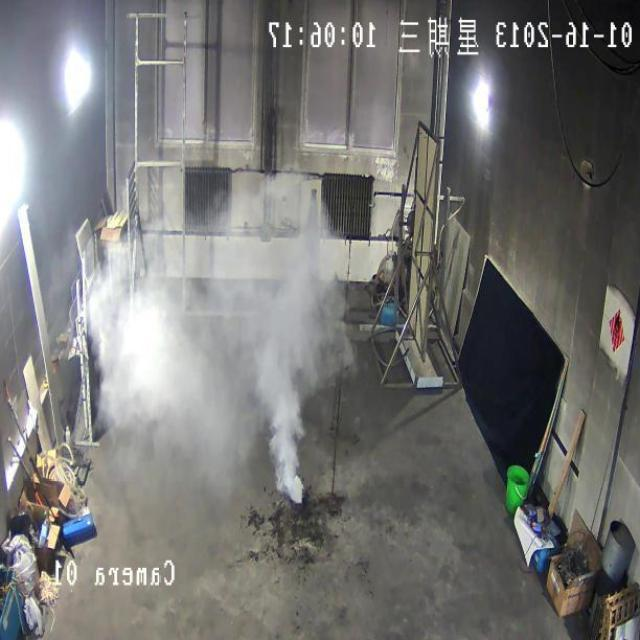fire: (215, 172, 352, 505), (88, 242, 214, 444)
